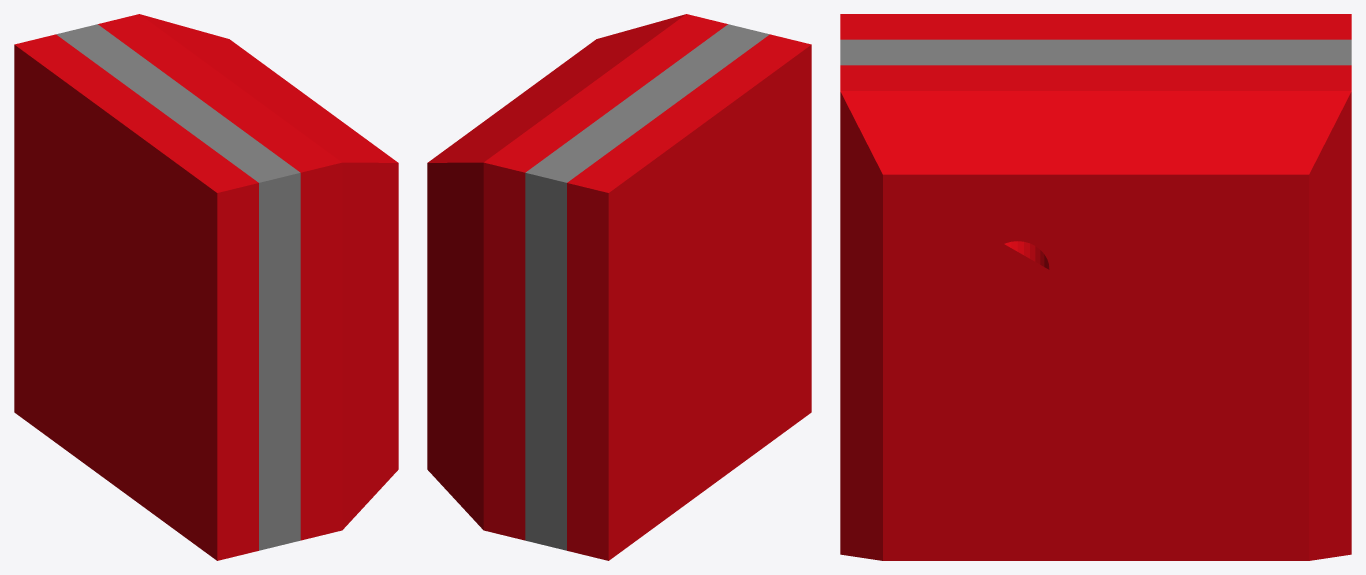
File: Socket.fbx
3 renders of one model, left to right at view 1: azimuth 30°, elevation 25°; view 2: azimuth 150°, elevation 25°; view 3: azimuth 270°, elevation 25°, orthographic. The views are drawn at different scales.
Visible parts, largest first — view 1: Cube; view 2: Cube; view 3: Cube.
Boxes of the visible parts, left/top/right/bottom form: Cube: left=14, top=14, right=398, bottom=560; Cube: left=427, top=14, right=811, bottom=560; Cube: left=840, top=14, right=1351, bottom=560.
Size of the model in its own units: 32.5 by 57.6 by 57.6.
